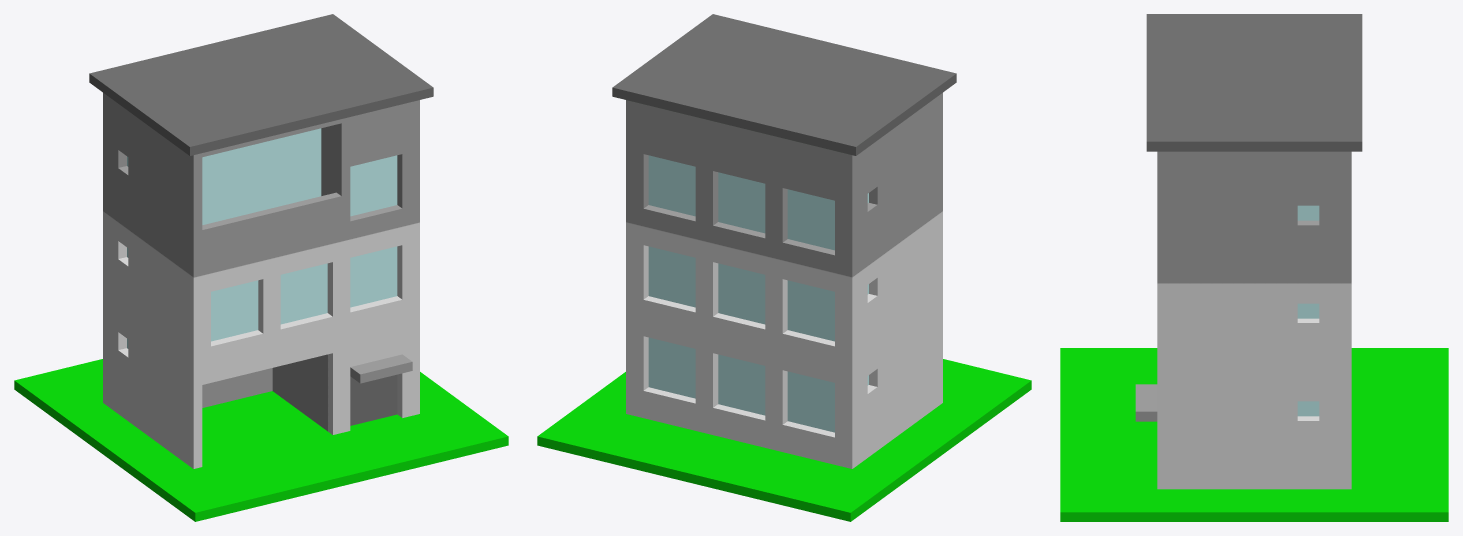
Rendered from building_11.fbx.
The picture shows the model from 3 angles, left to right: view 1: azimuth 30°, elevation 25°; view 2: azimuth 150°, elevation 25°; view 3: azimuth 270°, elevation 25°; orthographic projection. The views are drawn at different scales.
Parts seen in each view (by area): view 1: building_11; view 2: building_11; view 3: building_11.
Part boxes in pixels (x1,y1,x2,y2): building_11: [14, 14, 508, 521]; building_11: [537, 14, 1031, 521]; building_11: [1060, 14, 1448, 521].
Size of the model in its own units: 360 by 370 by 360.
Materials: 1 (1 with a texture image).
